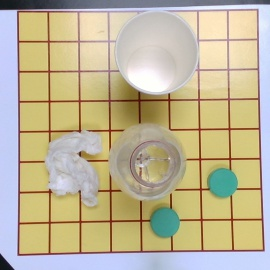bottle: (108, 123, 188, 203)
cup: (113, 12, 200, 95)
green: (150, 207, 180, 237), (208, 169, 238, 198)
